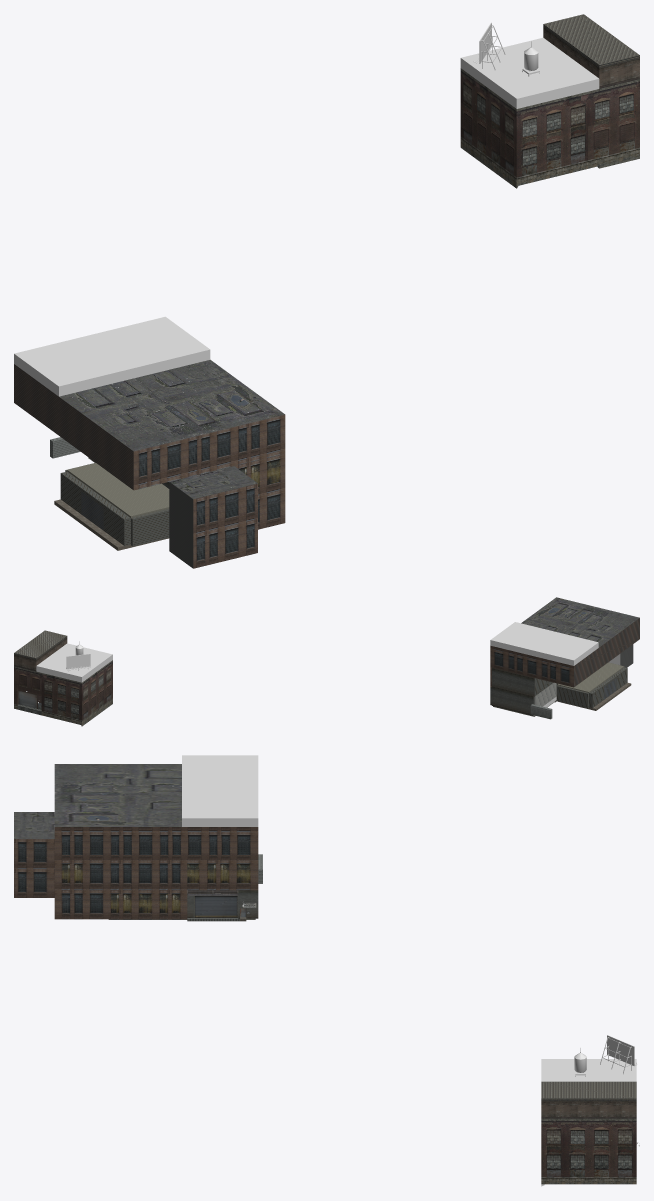
File: Warehouse_Geo.fbx
3 views of the same model, one above another, from view 1: azimuth 30°, elevation 25°; view 2: azimuth 150°, elevation 25°; view 3: azimuth 270°, elevation 25° (orthographic). The views are drawn at different scales.
Parts seen in each view (by area): view 1: worldspawn_1_39147, worldspawn_1_36039, worldspawn_1_39133, worldspawn_1_37649, worldspawn_1_39224, worldspawn_1_33915, worldspawn_1_11940, worldspawn_1_39245, worldspawn_1_39259, worldspawn_1_38923, worldspawn_1_39266, worldspawn_1_39140 (+6 smaller); view 2: worldspawn_1_39147, worldspawn_1_36039, worldspawn_1_38902, worldspawn_1_37649, worldspawn_1_11387, worldspawn_1_33915, worldspawn_1_11534, worldspawn_1_11940, worldspawn_1_11891, worldspawn_1_39259, worldspawn_1_38923, worldspawn_1_39266 (+11 smaller); view 3: worldspawn_1_39147, worldspawn_1_36039, worldspawn_1_32658, worldspawn_1_39133, worldspawn_1_39182, worldspawn_1_33915, worldspawn_1_37649, worldspawn_1_39189, worldspawn_1_38923, worldspawn_1_39175, worldspawn_1_39154, worldspawn_1_39168 (+6 smaller).
Boxes of the visible parts, left/top/right/bottom form: worldspawn_1_39147: left=14, top=359, right=285, bottom=490; worldspawn_1_36039: left=14, top=316, right=210, bottom=396; worldspawn_1_39133: left=169, top=466, right=257, bottom=568; worldspawn_1_37649: left=460, top=37, right=599, bottom=108; worldspawn_1_39224: left=516, top=98, right=587, bottom=185; worldspawn_1_33915: left=543, top=14, right=639, bottom=68; worldspawn_1_11940: left=67, top=463, right=169, bottom=517; worldspawn_1_39245: left=597, top=114, right=639, bottom=168; worldspawn_1_39259: left=460, top=75, right=516, bottom=142; worldspawn_1_38923: left=543, top=27, right=639, bottom=88; worldspawn_1_39266: left=460, top=102, right=516, bottom=167; worldspawn_1_39140: left=235, top=453, right=285, bottom=499; worldspawn_1_39147: left=490, top=597, right=639, bottom=687; worldspawn_1_36039: left=490, top=622, right=598, bottom=665; worldspawn_1_38902: left=41, top=677, right=81, bottom=725; worldspawn_1_37649: left=36, top=643, right=112, bottom=682; worldspawn_1_11387: left=492, top=667, right=553, bottom=696; worldspawn_1_33915: left=14, top=630, right=67, bottom=660; worldspawn_1_11534: left=492, top=686, right=534, bottom=711; worldspawn_1_11940: left=557, top=662, right=623, bottom=692; worldspawn_1_11891: left=556, top=685, right=588, bottom=708; worldspawn_1_39259: left=82, top=664, right=112, bottom=700; worldspawn_1_38923: left=14, top=638, right=67, bottom=671; worldspawn_1_39266: left=82, top=679, right=112, bottom=714; worldspawn_1_39147: left=54, top=764, right=258, bottom=859; worldspawn_1_36039: left=182, top=755, right=258, bottom=826; worldspawn_1_32658: left=578, top=1124, right=636, bottom=1184; worldspawn_1_39133: left=14, top=812, right=54, bottom=897; worldspawn_1_39182: left=187, top=860, right=258, bottom=890; worldspawn_1_33915: left=541, top=1081, right=636, bottom=1101; worldspawn_1_37649: left=541, top=1059, right=636, bottom=1081; worldspawn_1_39189: left=86, top=860, right=138, bottom=893; worldspawn_1_38923: left=541, top=1101, right=636, bottom=1118; worldspawn_1_39175: left=138, top=860, right=187, bottom=893; worldspawn_1_39154: left=54, top=893, right=110, bottom=913; worldspawn_1_39168: left=131, top=893, right=187, bottom=913.
Size of the model in its own units: 7824 by 1157 by 6296.
